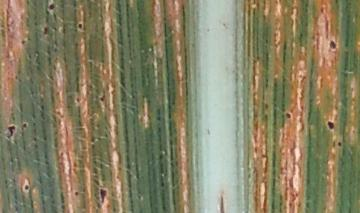tarspot: (217, 193, 226, 213), (6, 124, 16, 139), (99, 187, 107, 204), (328, 37, 337, 51), (325, 120, 335, 130), (46, 2, 57, 11), (284, 111, 291, 120), (41, 26, 48, 34), (19, 38, 26, 45), (73, 190, 80, 197), (77, 22, 83, 30), (23, 184, 31, 190), (99, 94, 105, 102), (336, 141, 342, 147), (22, 122, 28, 128), (25, 1, 31, 5)
